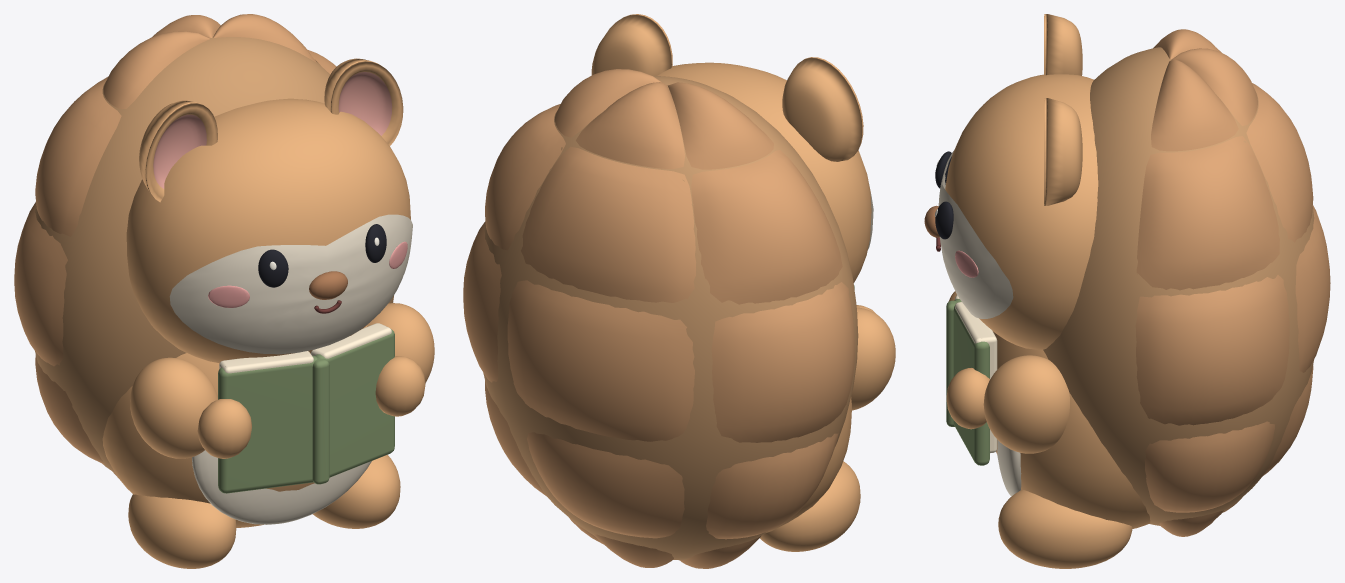
File: armadillo.glb
The picture shows the model from 3 angles, left to right: view 1: azimuth 30°, elevation 25°; view 2: azimuth 150°, elevation 25°; view 3: azimuth 270°, elevation 25°; orthographic projection. The views are drawn at different scales.
Visible parts, largest first — view 1: Head.Mesh.001, Shell.Underlay, Shell.Panels, Face.Cream.001, Book.Cover.L, Book.Cover.R, Arm.L.Mesh.001, Foot.L.Mesh.001, Body.Mesh.001, Belly.001, Ear.R.001, Ear.L.001 (+11 smaller); view 2: Shell.Panels, Shell.Underlay, Head.Mesh.001, Ear.L.001, Foot.L.Mesh.001, Ear.R.001, Arm.L.Mesh.001, Body.Mesh.001; view 3: Shell.Panels, Shell.Underlay, Head.Mesh.001, Body.Mesh.001, Foot.R.Mesh.001, Arm.R.Mesh.001, Face.Cream.001, Ear.R.001, Book.Cover.R, Ear.L.001, Paw.R.001, Book.Pages.R (+3 smaller).
Boxes of the visible parts, x1,y1,x2,y2 form: Head.Mesh.001: [126, 98, 410, 363]; Shell.Underlay: [34, 35, 393, 473]; Shell.Panels: [14, 14, 336, 477]; Face.Cream.001: [169, 214, 412, 354]; Book.Cover.L: [218, 355, 317, 493]; Book.Cover.R: [315, 328, 394, 477]; Arm.L.Mesh.001: [130, 357, 217, 458]; Foot.L.Mesh.001: [128, 494, 236, 568]; Body.Mesh.001: [102, 325, 367, 527]; Belly.001: [192, 450, 371, 524]; Ear.R.001: [324, 58, 403, 145]; Ear.L.001: [139, 100, 217, 202]; Shell.Panels: [463, 69, 855, 568]; Shell.Underlay: [483, 76, 858, 560]; Head.Mesh.001: [657, 62, 871, 282]; Ear.L.001: [782, 57, 863, 161]; Foot.L.Mesh.001: [760, 461, 860, 551]; Ear.R.001: [591, 14, 672, 75]; Arm.L.Mesh.001: [851, 307, 895, 410]; Body.Mesh.001: [766, 397, 851, 532]; Shell.Panels: [1135, 29, 1330, 536]; Shell.Underlay: [1043, 47, 1314, 525]; Head.Mesh.001: [945, 74, 1098, 349]; Body.Mesh.001: [993, 331, 1150, 528]; Foot.R.Mesh.001: [998, 490, 1132, 568]; Arm.R.Mesh.001: [983, 355, 1069, 453]; Face.Cream.001: [938, 151, 1013, 318]; Ear.R.001: [1044, 98, 1082, 205]; Book.Cover.R: [953, 302, 989, 465]; Ear.L.001: [1044, 14, 1082, 75]; Paw.R.001: [946, 368, 989, 429]; Book.Pages.R: [955, 302, 997, 453].
Size of the model in its own units: 1.12 by 1.42 by 1.11.
